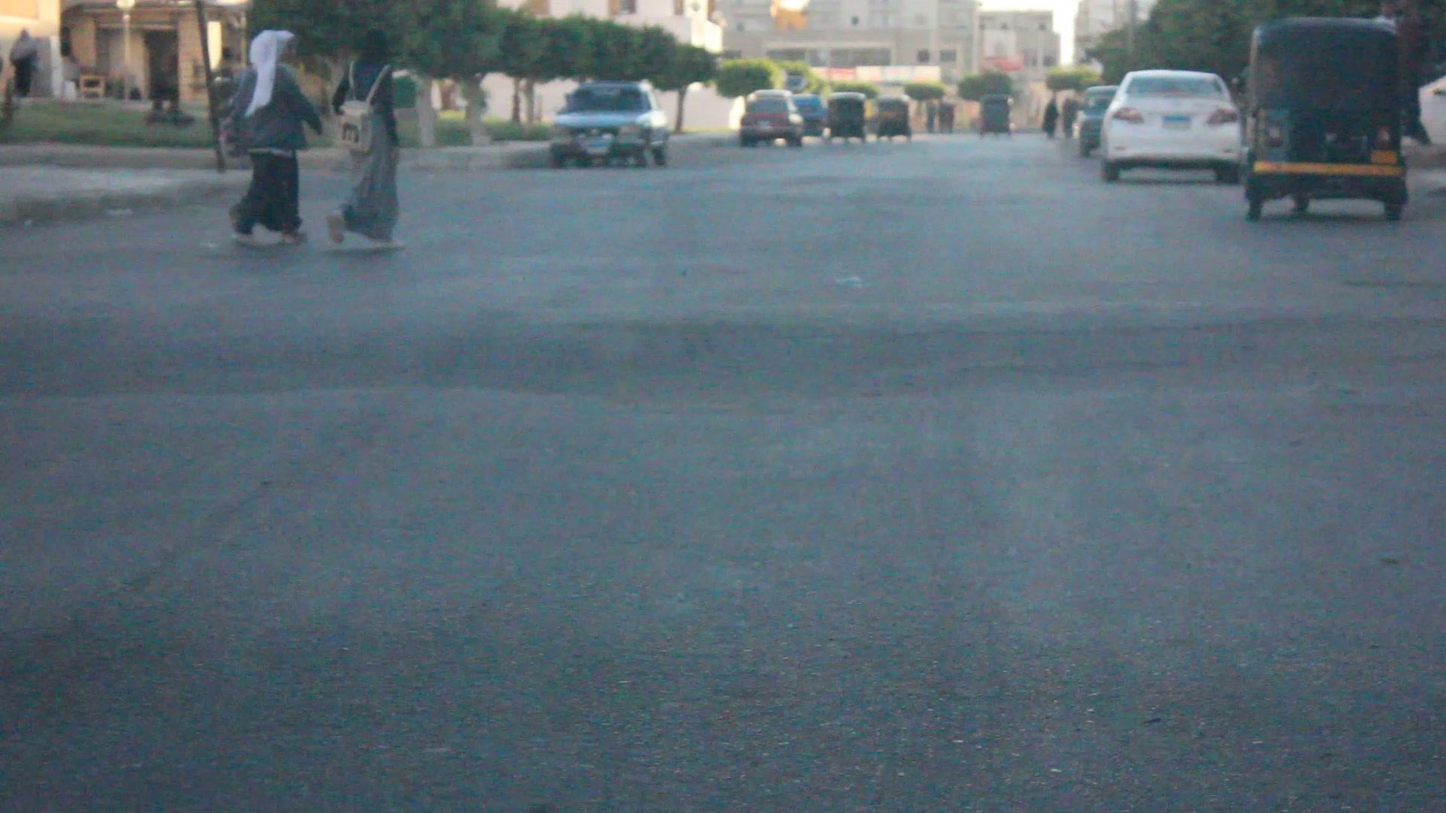Bump: (0, 277, 1446, 418)
